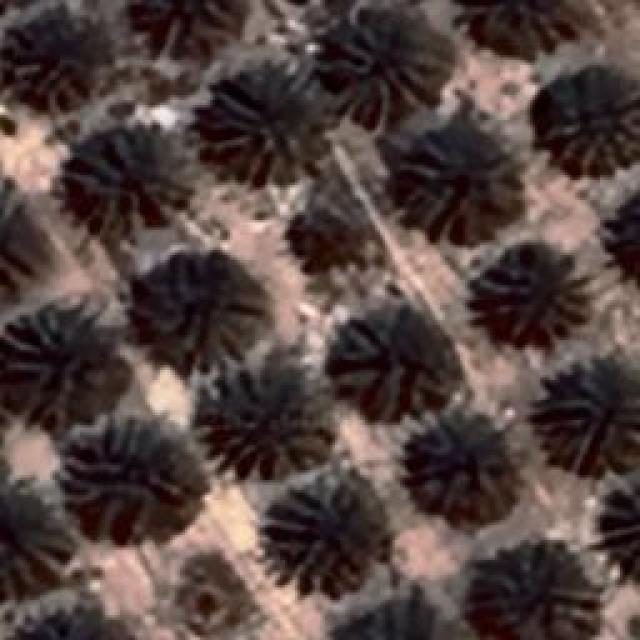PalmTree: (138, 115, 619, 531), (41, 110, 324, 535), (60, 125, 195, 247), (132, 252, 266, 370), (190, 368, 328, 480), (388, 130, 522, 242), (58, 428, 192, 536), (332, 315, 466, 420), (2, 305, 126, 413), (198, 70, 312, 185), (535, 65, 640, 185), (460, 550, 600, 640), (322, 17, 436, 125), (470, 242, 585, 348), (538, 348, 638, 468), (402, 425, 516, 523), (0, 18, 102, 111), (448, 0, 582, 60), (0, 484, 68, 598), (0, 182, 43, 296), (336, 600, 454, 640), (147, 0, 234, 52), (15, 613, 134, 640), (610, 186, 640, 292), (15, 620, 131, 640), (620, 186, 640, 292)
